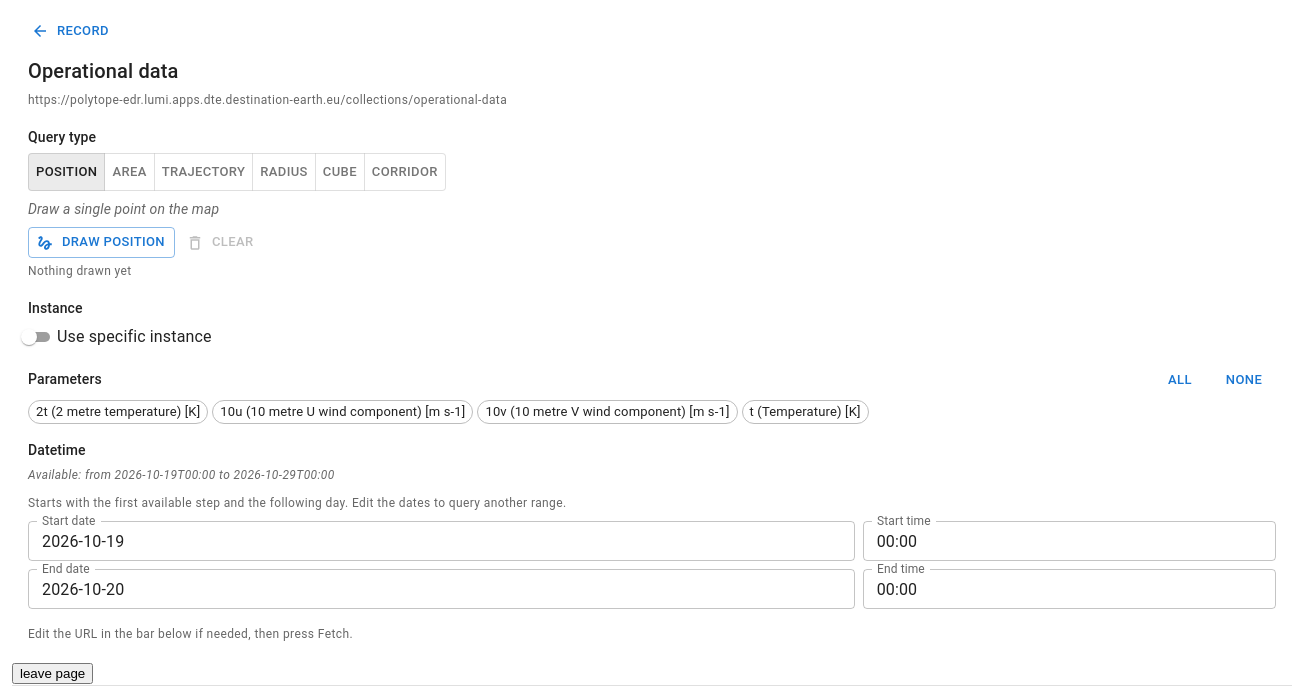
Test: EDR page › position prefills start = first step and end = start + 1 day (not the whole range), and builds a position URL (Flet format)
expect the field labelled "Start date" holds "2026-10-19": met, box 28,521 -> 855,561
expect the field labelled "End date" holds "2026-10-20": met, box 28,569 -> 855,609
Click the button "2t (2 metre temperature) [K]": x=118, y=412 28,400 -> 208,424
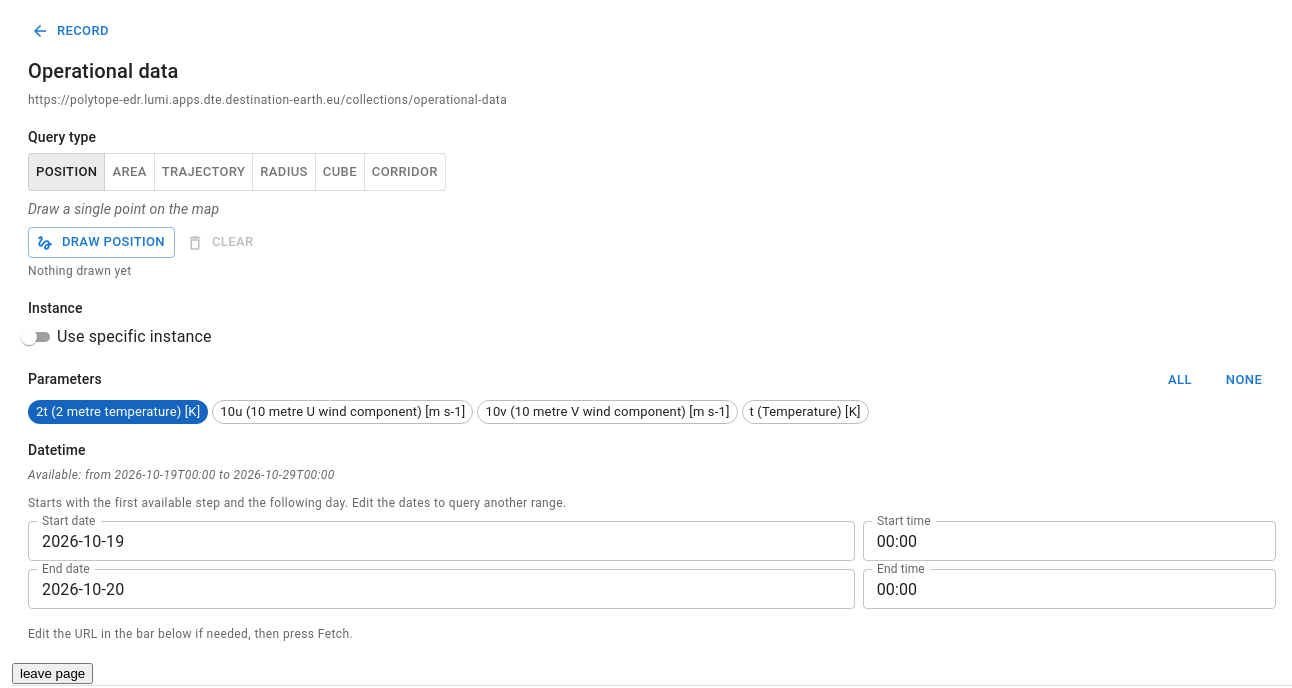
Click the button "Draw position": x=101, y=243 28,228 -> 175,258
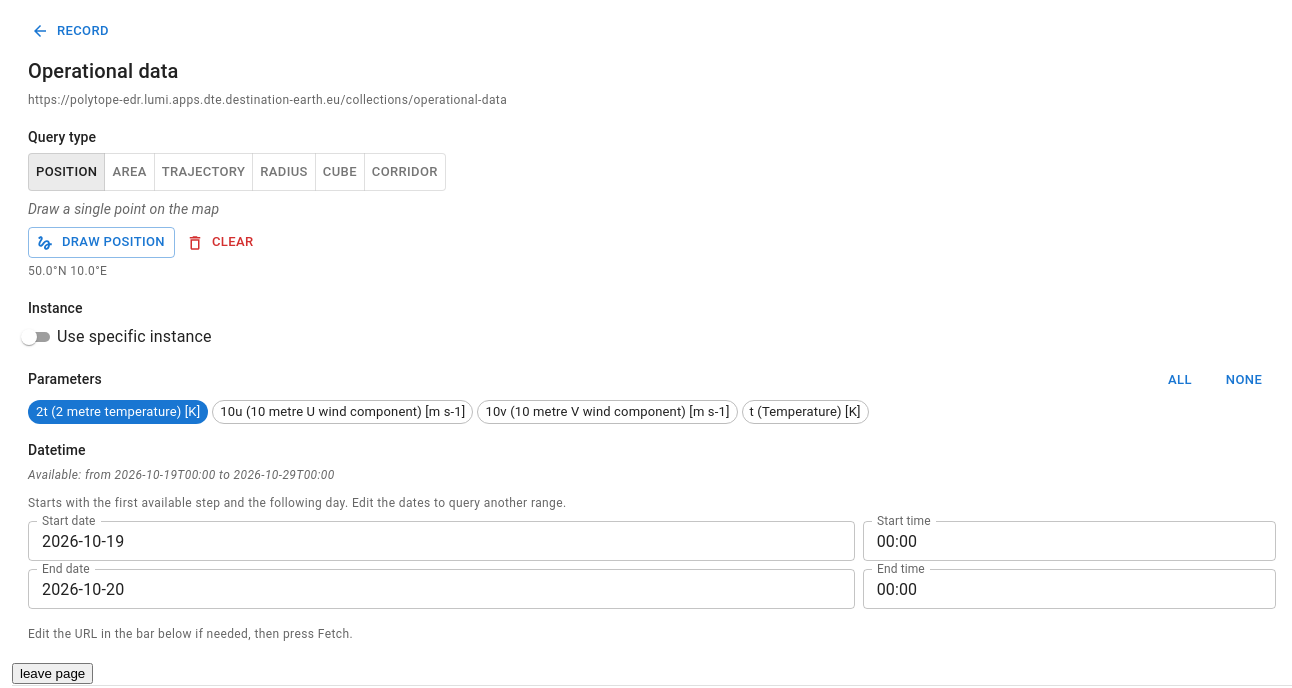
expect the text with test id "edr-geometry" reads "50.0°N 10.0°E": met, box 28,264 -> 107,278
